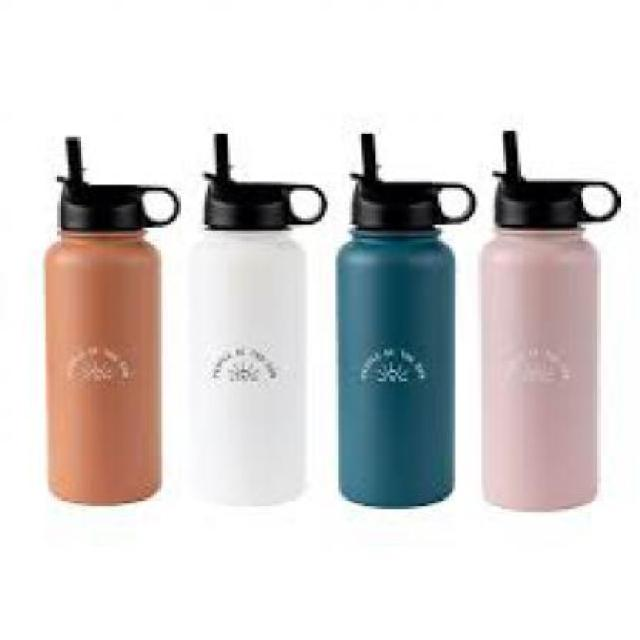Drinking: (45, 116, 173, 524), (489, 134, 606, 546), (342, 145, 460, 538)
